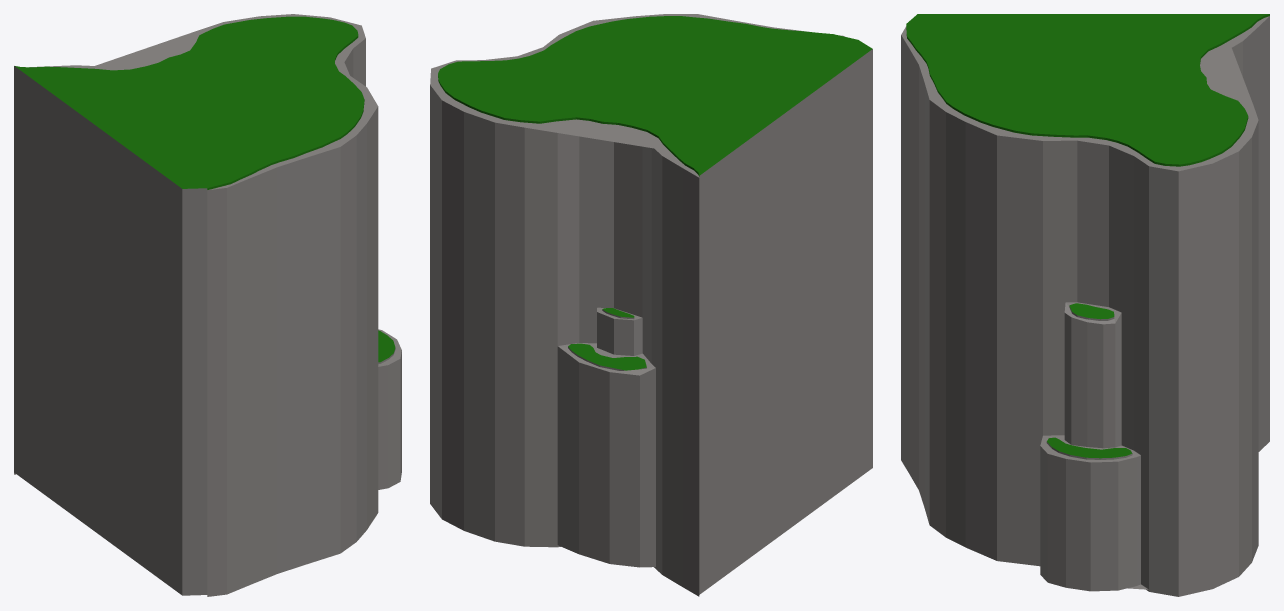
Rendered from End.fbx.
3 renders of one model, left to right at view 1: azimuth 30°, elevation 25°; view 2: azimuth 150°, elevation 25°; view 3: azimuth 270°, elevation 25°, orthographic. The views are drawn at different scales.
Visible parts, largest first — view 1: Plane.009; view 2: Plane.009; view 3: Plane.009.
Part boxes in pixels (x1,y1,x2,y2): Plane.009: (14,14,401,596); Plane.009: (430,14,872,596); Plane.009: (901,14,1269,596).
Bounding box in the file's own units: 78.23 × 101 × 78.51.
